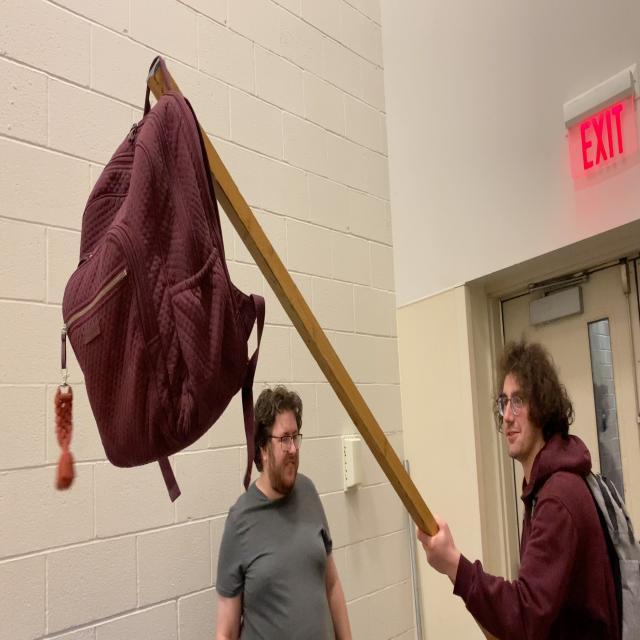Backpacks: (60, 92, 252, 467)
